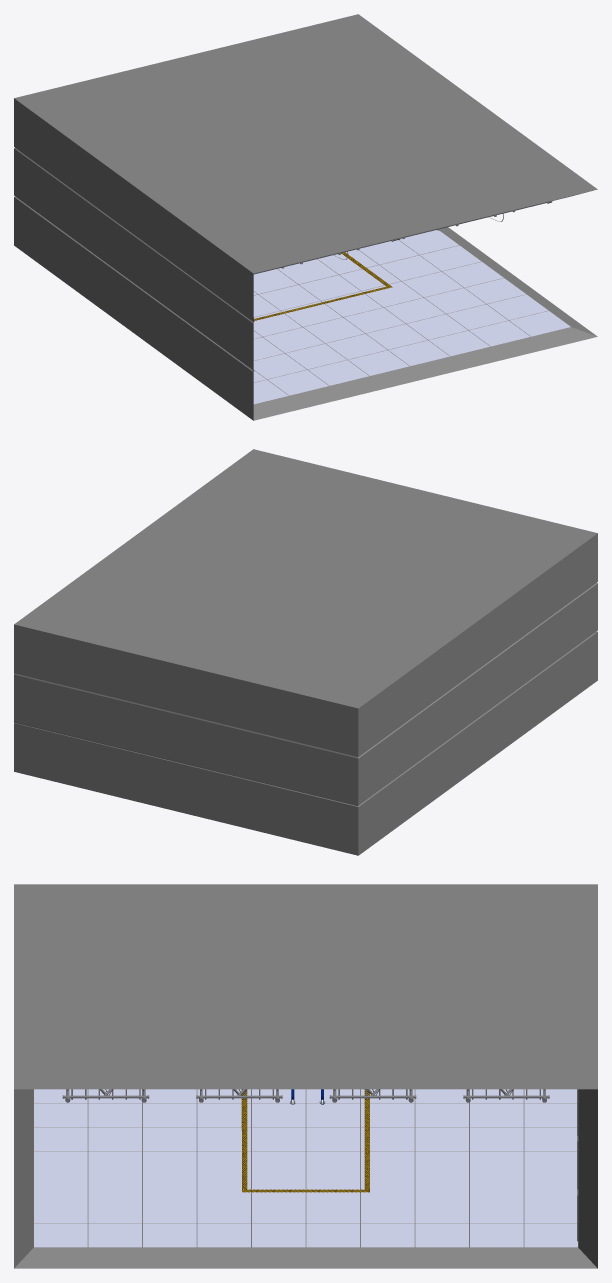
File: garage.glb
3 renders of one model, top to bottom at view 1: azimuth 30°, elevation 25°; view 2: azimuth 150°, elevation 25°; view 3: azimuth 270°, elevation 25°, orthographic. The views are drawn at different scales.
Visible parts, largest first — view 1: Cube_8, Cube.004_5; view 2: Cube_8; view 3: Cube_8, Cube.001_4, Cube.004_5.
Part boxes in pixels (x1,y1,x2,y2): Cube_8: [14, 14, 597, 420]; Cube.004_5: [254, 252, 392, 320]; Cube_8: [14, 449, 597, 855]; Cube_8: [14, 884, 597, 1268]; Cube.001_4: [62, 1089, 549, 1102]; Cube.004_5: [241, 1089, 369, 1192].
Bounding box in the file's own units: 7.53 × 3.08 × 9.07.
18 materials, 2 textured.
